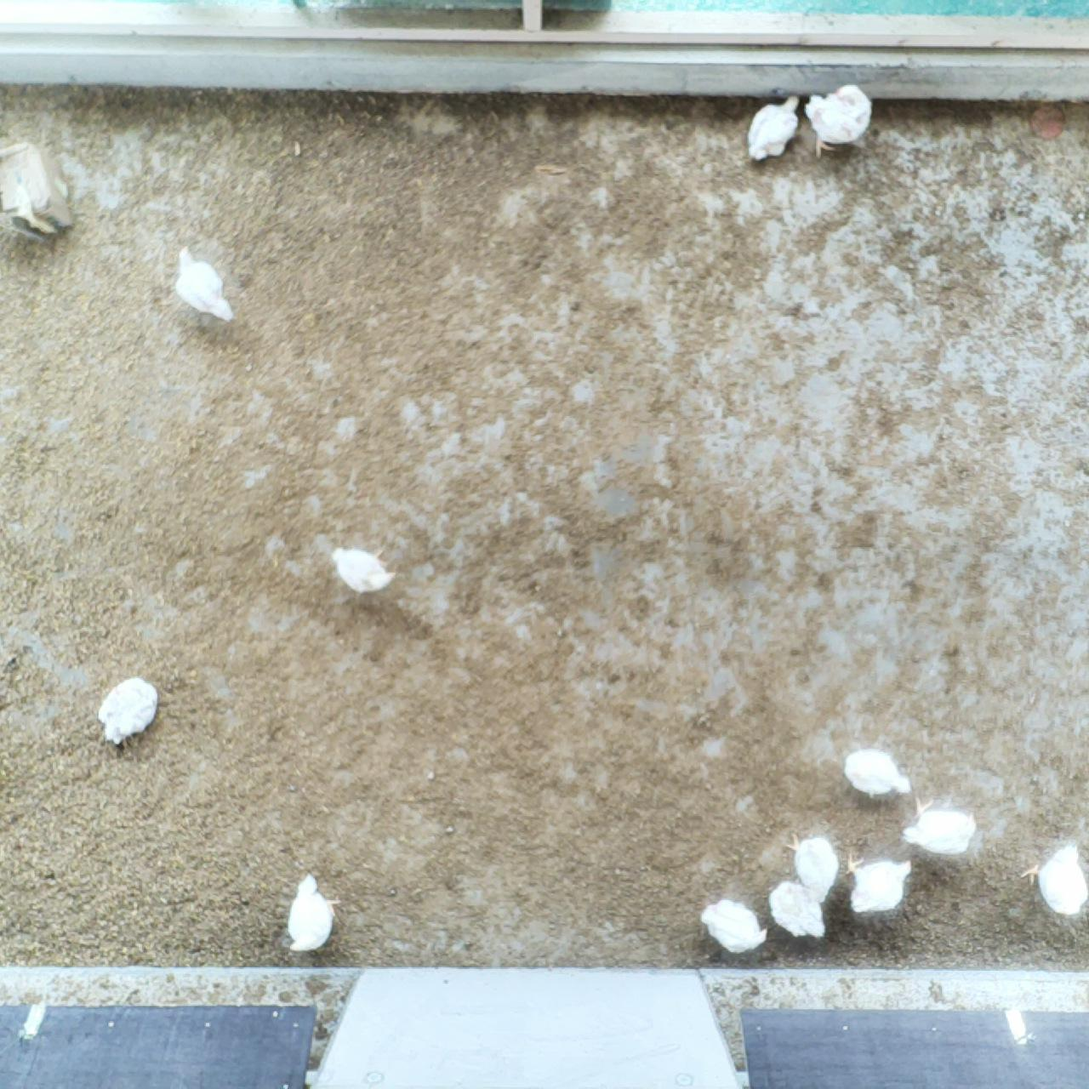chicken: (168, 241, 242, 327), (801, 81, 874, 159), (896, 795, 982, 861), (281, 868, 345, 956), (1020, 841, 1089, 920), (845, 848, 915, 919), (98, 672, 159, 747), (696, 894, 768, 956), (327, 538, 400, 598), (741, 96, 804, 165), (766, 873, 827, 942), (840, 746, 916, 800), (786, 831, 842, 903)
